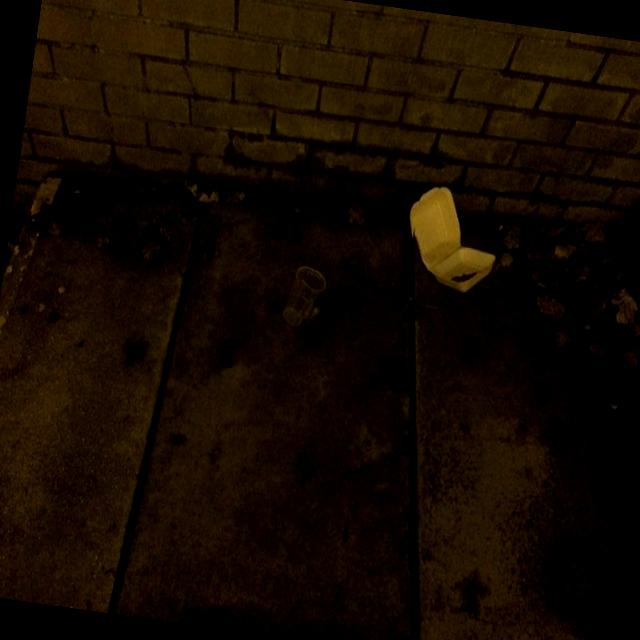Recycle: (280, 264, 330, 331)
Trash: (396, 180, 504, 298)
